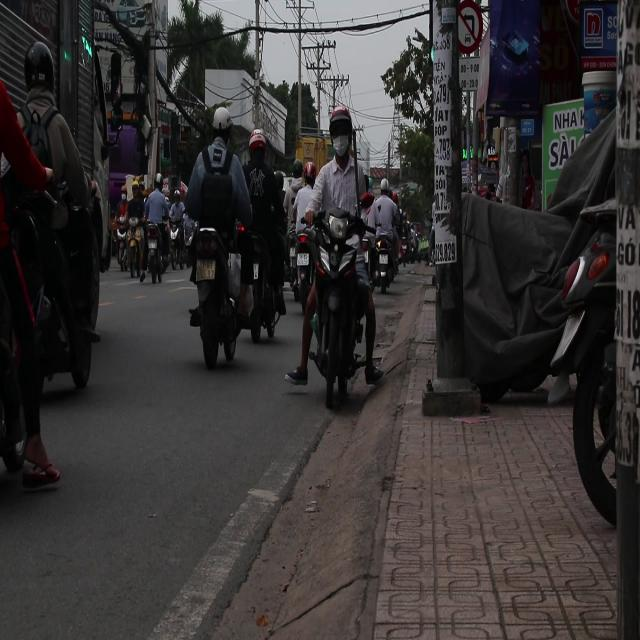motorbike: (283, 206, 378, 404), (23, 200, 103, 384), (200, 212, 236, 361), (287, 217, 314, 303), (368, 226, 401, 294)
